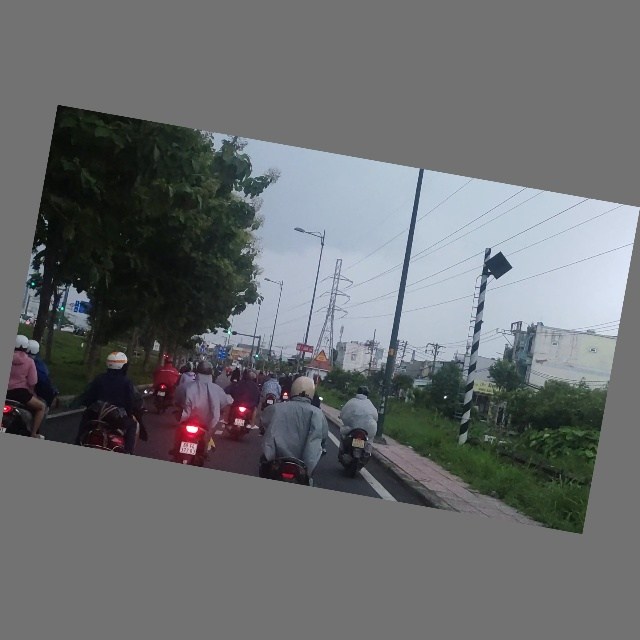W.210: (314, 349, 330, 364)
